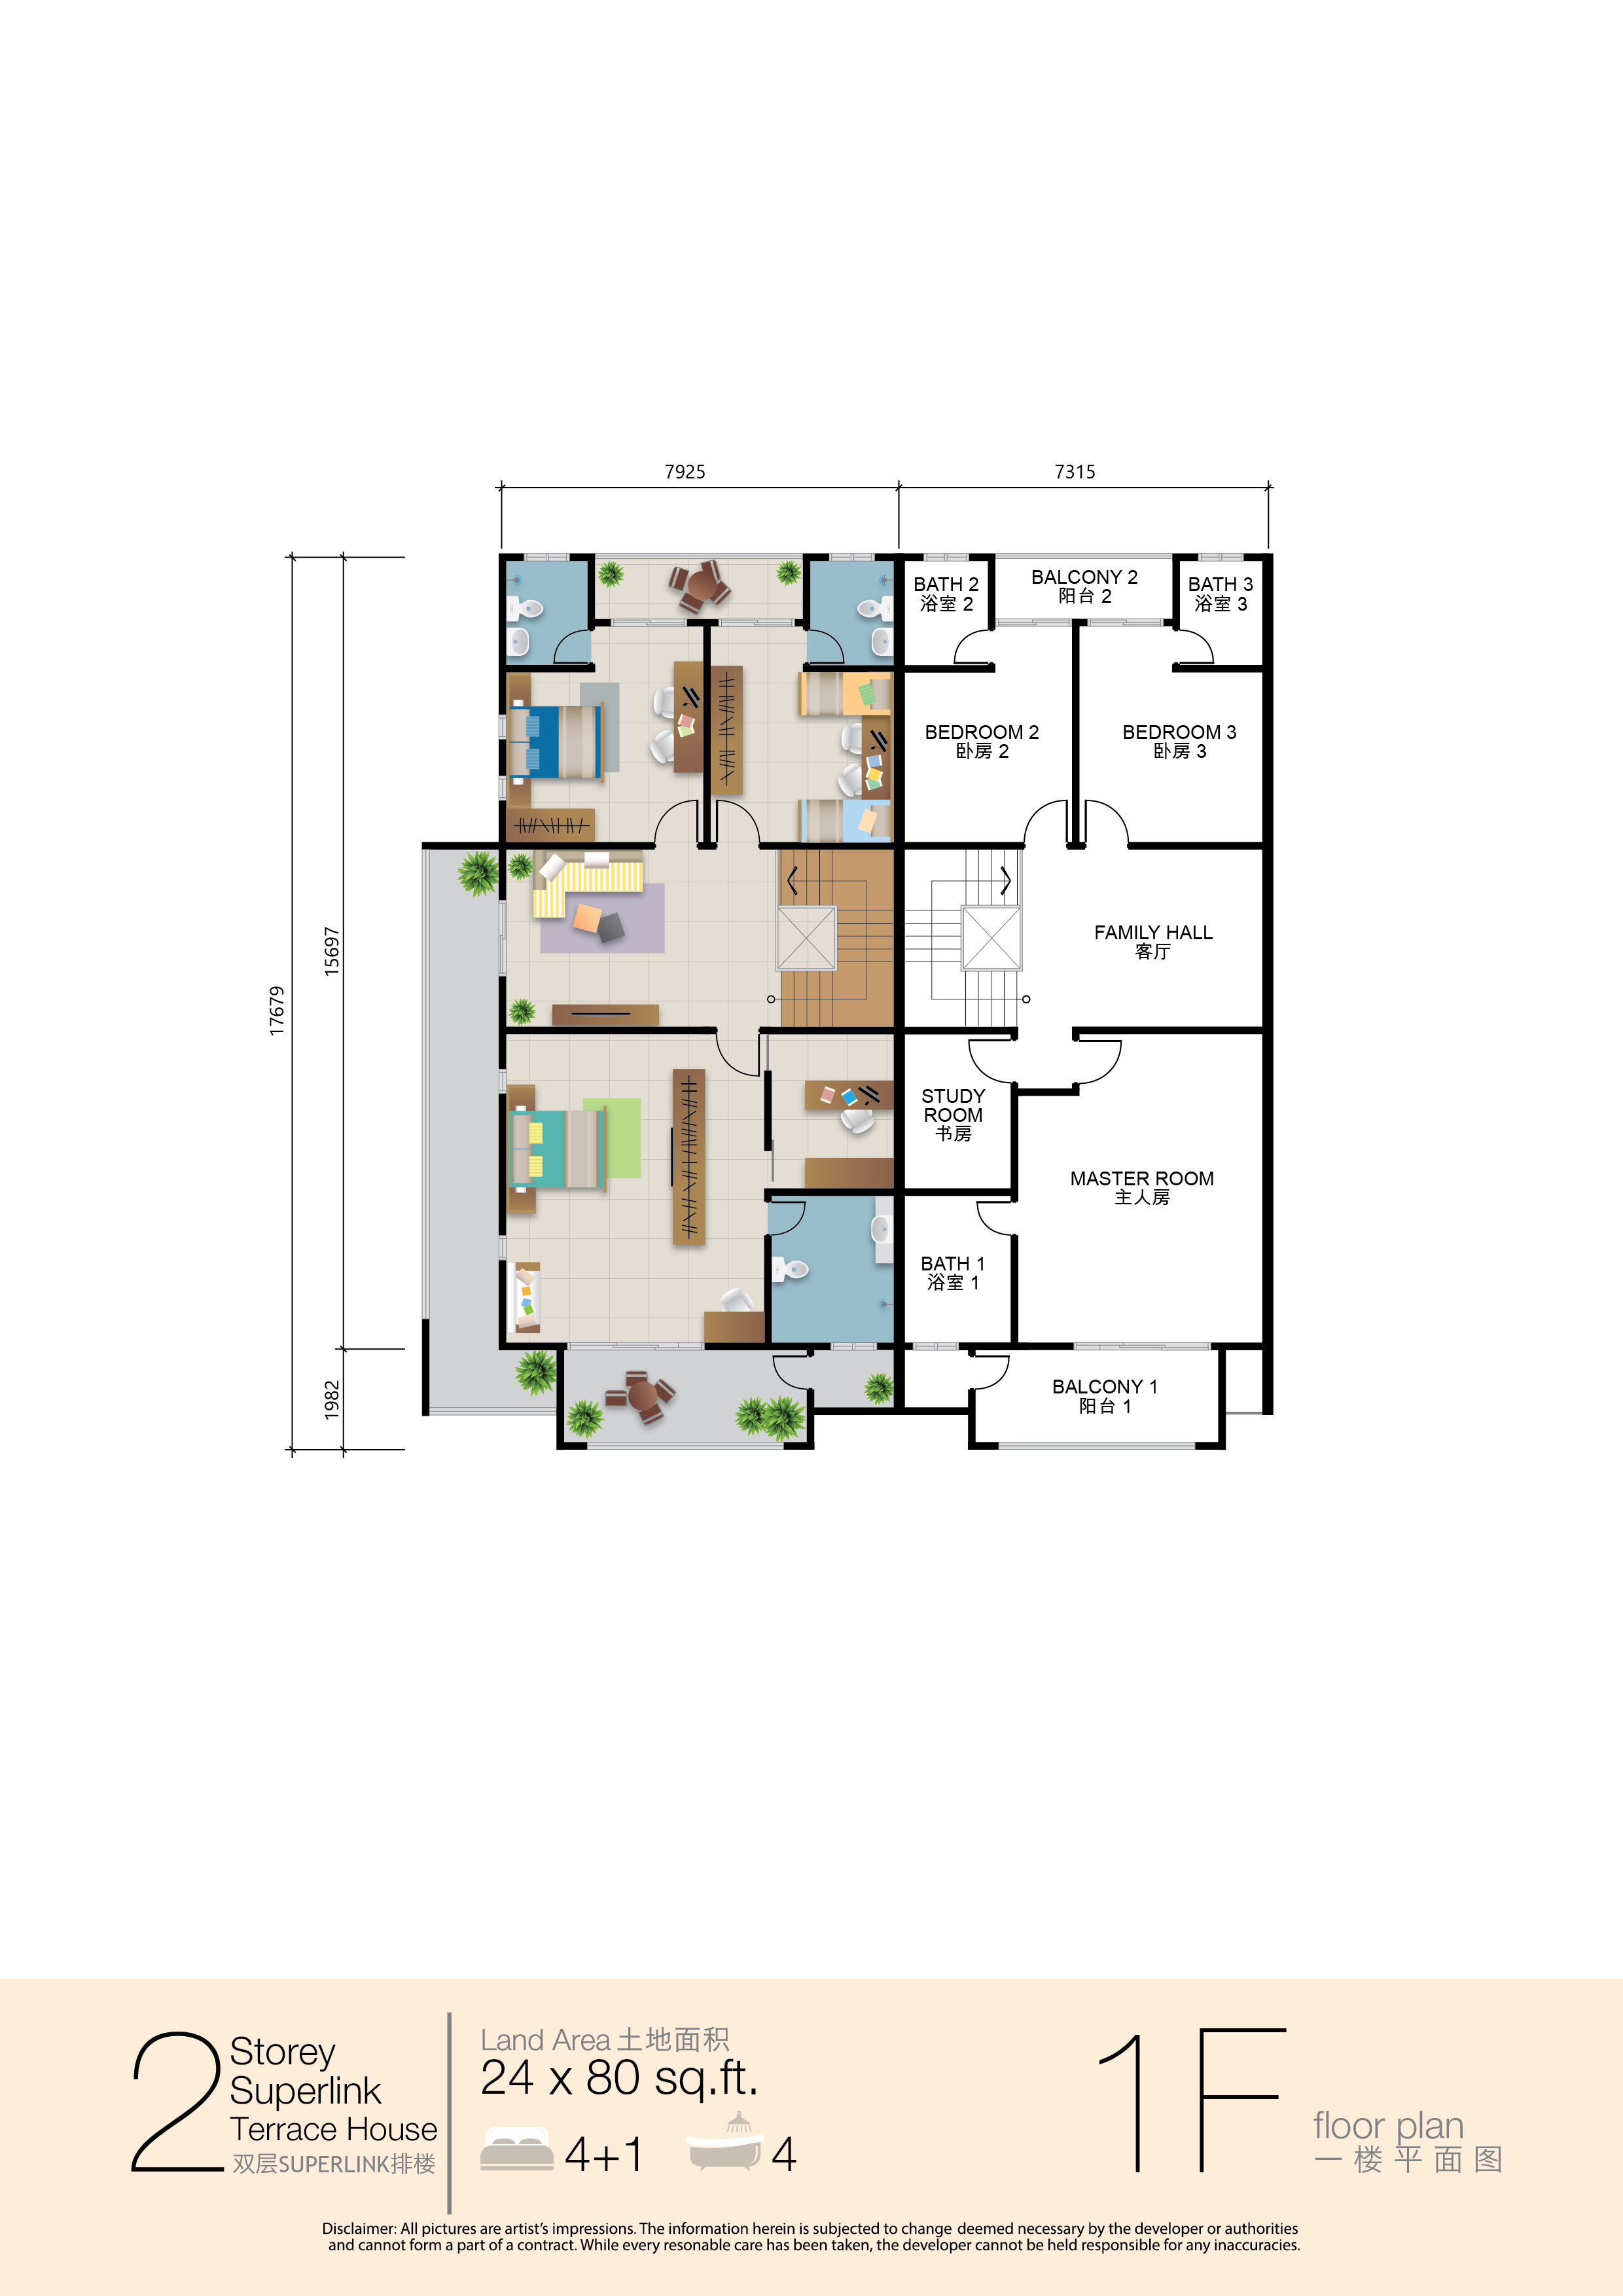window: (564, 1339, 706, 1354), (495, 898, 509, 978), (608, 617, 689, 629), (715, 618, 796, 631), (994, 617, 1073, 629), (1086, 615, 1165, 627), (910, 1339, 961, 1354), (827, 1339, 876, 1354), (827, 550, 878, 564), (1194, 550, 1245, 564), (520, 550, 571, 564), (920, 552, 971, 564), (495, 711, 509, 743), (495, 771, 508, 801), (495, 1066, 508, 1096), (495, 1233, 508, 1263)
